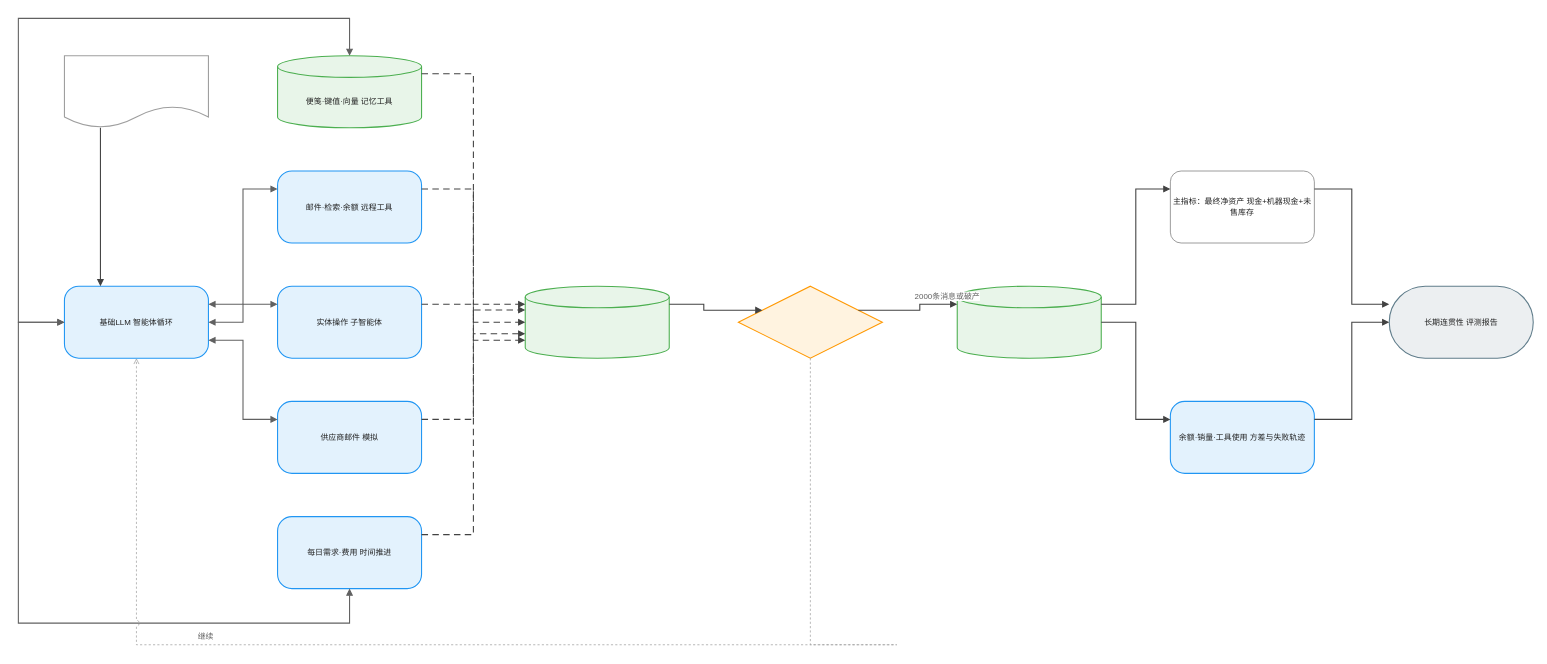
This 1547x664 diagram has some shape labels left out. The shapes that lost their labels are listed below. From the top down, each one's centre as x and y in pixels, then its label:
At point 136,91: "500美元起步·每日2美元 3万上下文·运行5次".
At point 596,321: "库存·订单·定价 现金与销售状态".
At point 810,321: "达到停止条件？".
At point 1028,321: "完整运行 轨迹日志".
